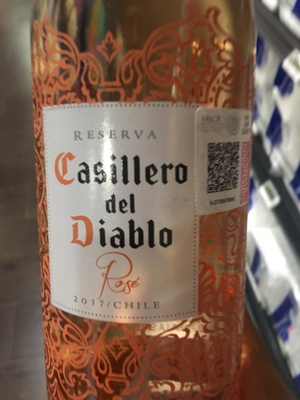casillero del diablo rose: (22, 10, 261, 385)
